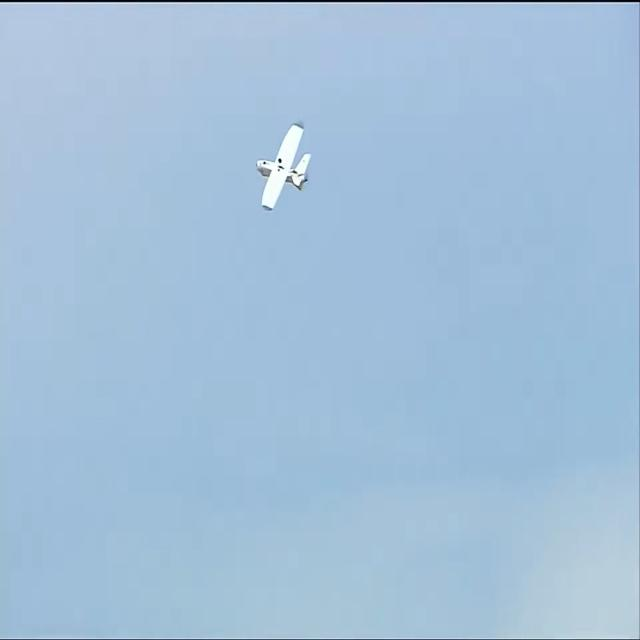iha: (256, 150, 312, 179)
